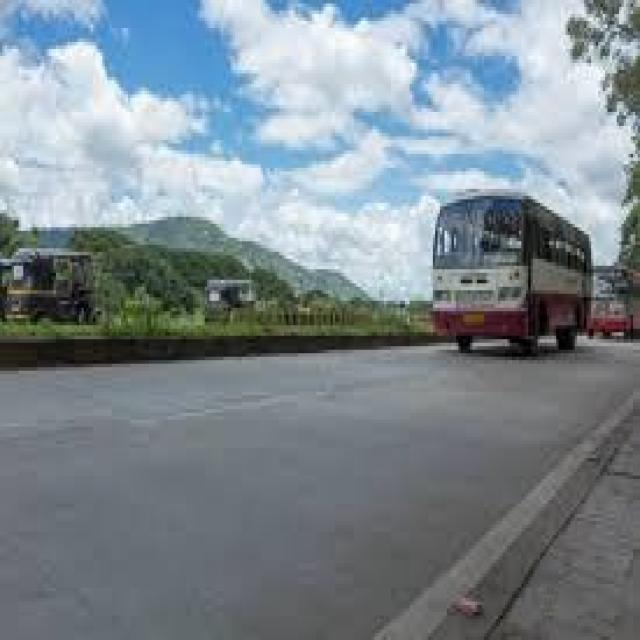bus: (430, 178, 601, 360), (595, 256, 640, 351)
